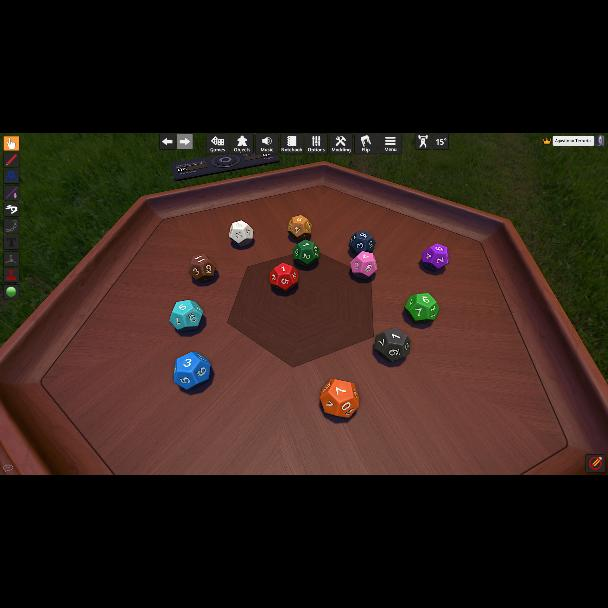d12: (173, 352, 212, 390), (319, 380, 357, 418), (373, 329, 408, 363), (170, 299, 204, 331), (406, 293, 436, 323), (189, 253, 217, 282), (270, 264, 298, 292), (422, 244, 450, 272), (349, 250, 377, 278), (292, 240, 318, 268), (229, 220, 254, 246), (349, 231, 376, 255), (288, 215, 310, 241)
